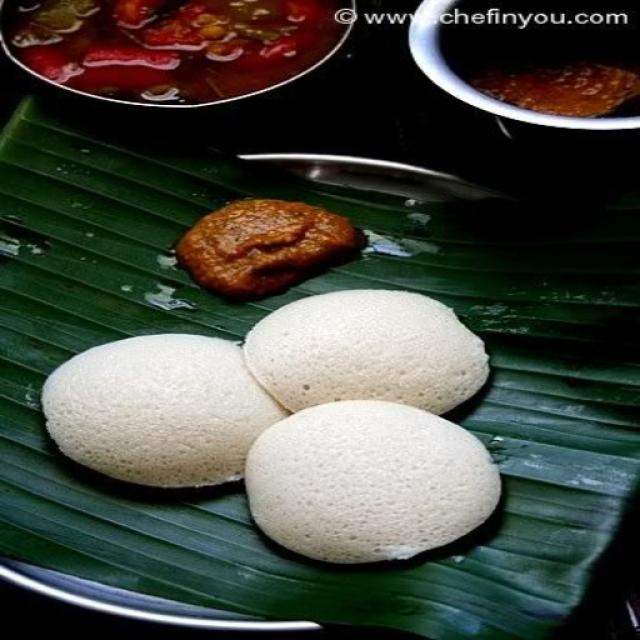IDLI: (42, 290, 500, 562)
RED CHUTNEY: (177, 196, 366, 306)
